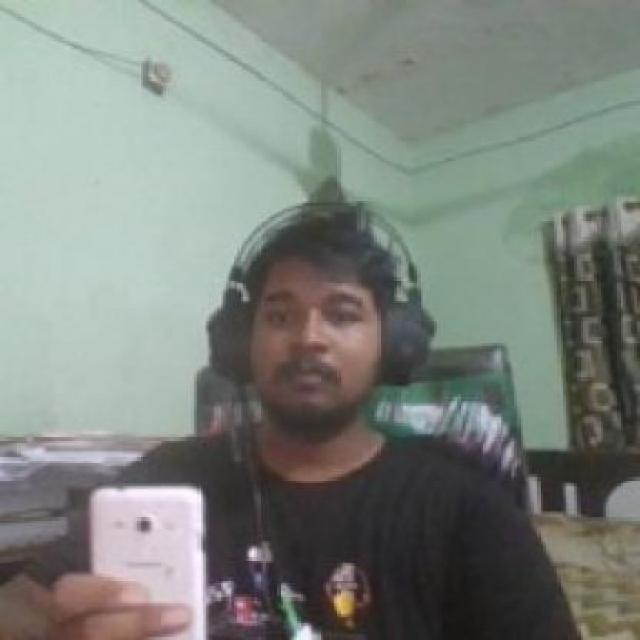Phone: (87, 484, 208, 634)
